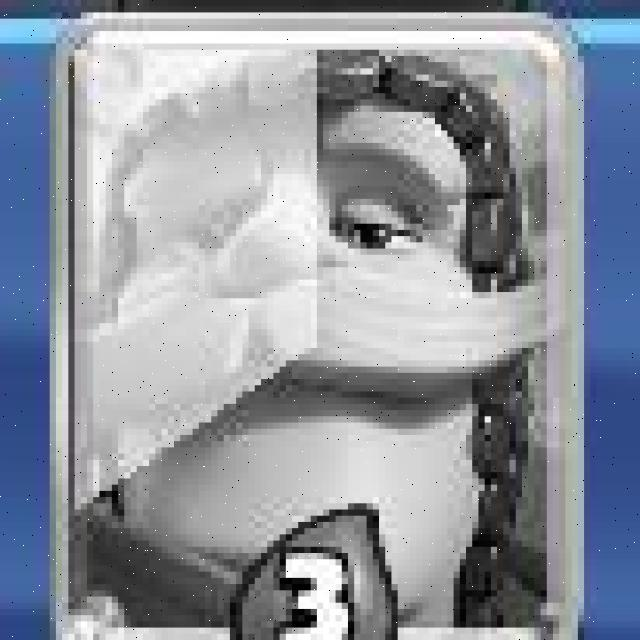Knight: (53, 16, 584, 640)
